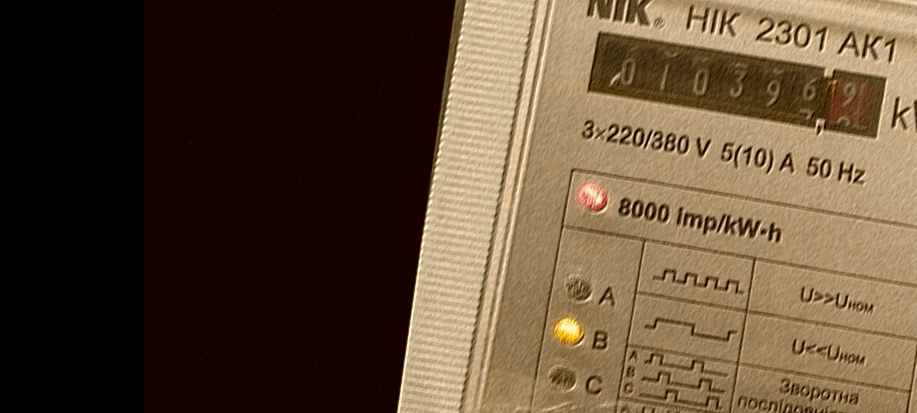0: (690, 63, 717, 98), (618, 52, 642, 88)
1: (659, 58, 676, 93)
3: (729, 66, 752, 101)
6: (801, 72, 825, 104)
9: (762, 75, 787, 110), (838, 78, 863, 111)
screen: (573, 16, 902, 154)
